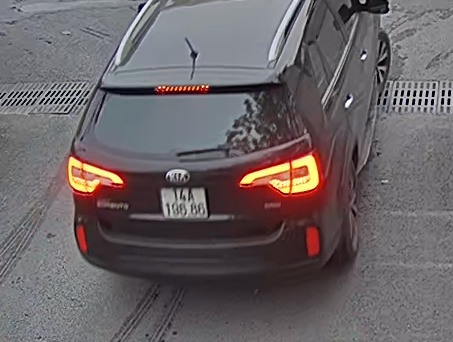vehicle plate: (153, 181, 212, 220)
